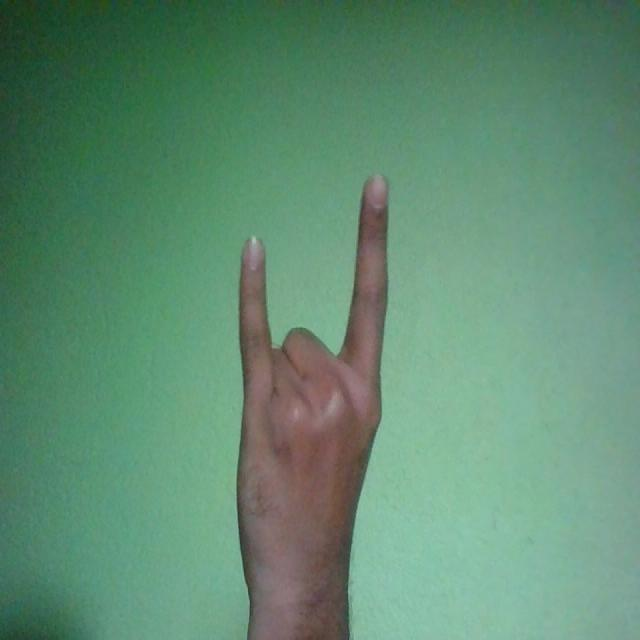open Plam: (236, 173, 391, 624)
